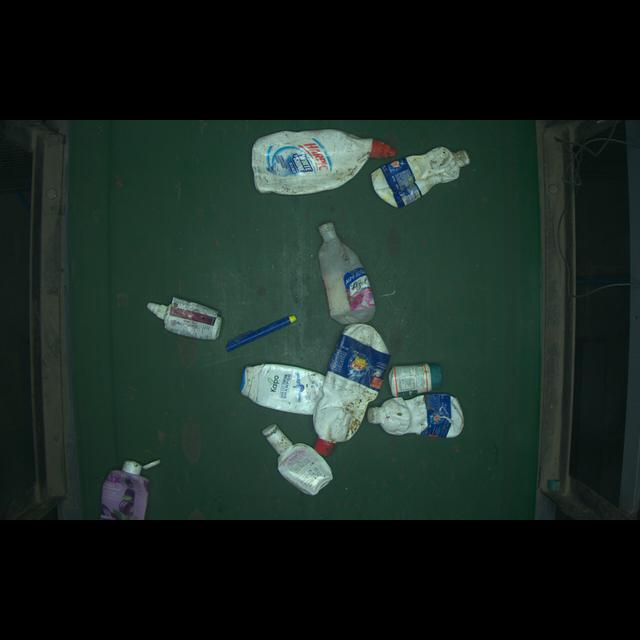mix PET: (242, 124, 395, 195), (239, 357, 328, 417), (143, 286, 232, 343), (366, 392, 468, 437), (389, 360, 447, 396)
